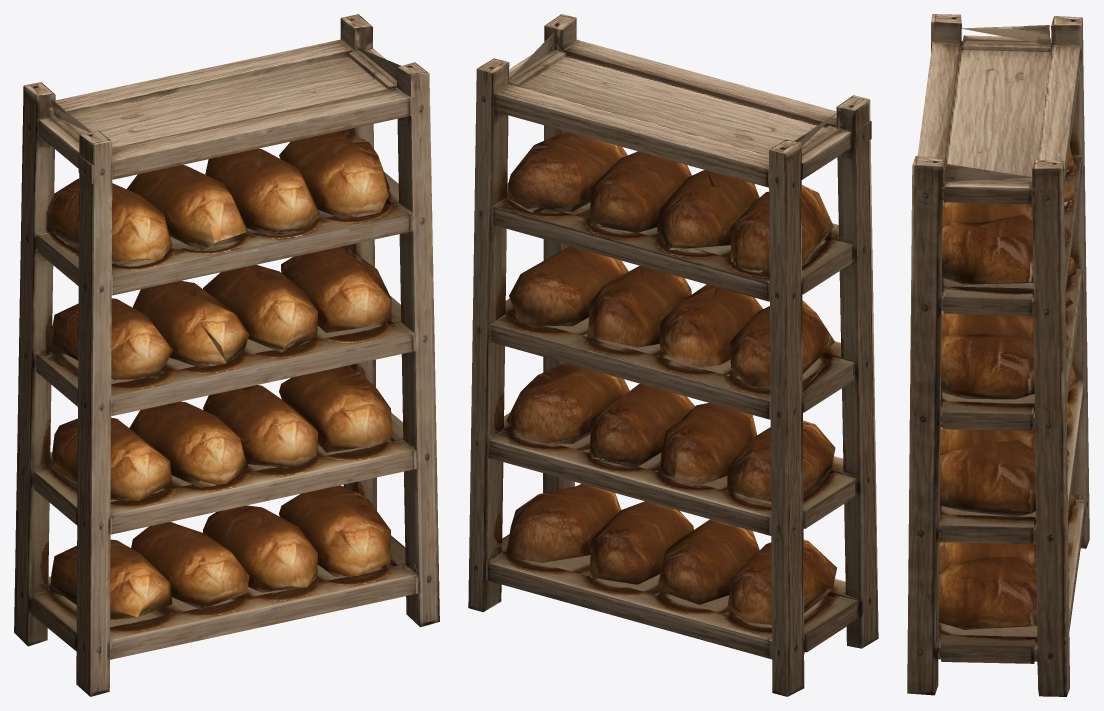
Rendered from act1_kit_v1_bread_rack.glb.
The picture shows the model from 3 angles, left to right: view 1: azimuth 30°, elevation 25°; view 2: azimuth 150°, elevation 25°; view 3: azimuth 270°, elevation 25°; orthographic projection. The views are drawn at different scales.
Parts seen in each view (by area): view 1: A24_2_bread_rack; view 2: A24_2_bread_rack; view 3: A24_2_bread_rack.
Part boxes in pixels (x1,y1,x2,y2): A24_2_bread_rack: (14, 14, 439, 696); A24_2_bread_rack: (468, 14, 878, 696); A24_2_bread_rack: (907, 14, 1089, 696).
Size of the model in its own units: 0.6545 by 1 by 0.3133.
Materials: 1 (1 with a texture image).
